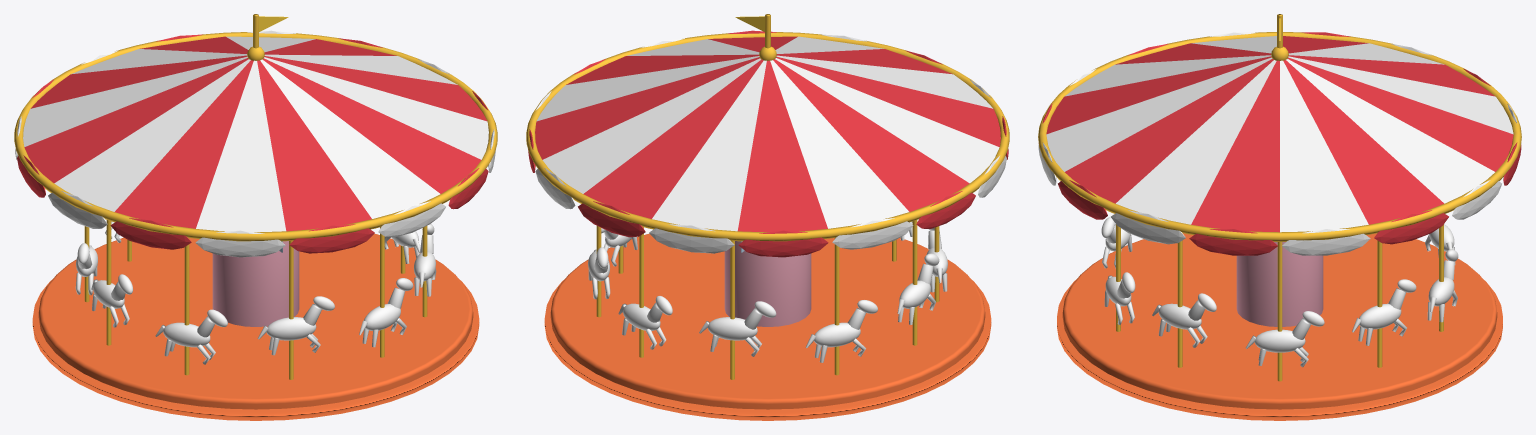
File: RockinRacewayCarousel.obj
3 views of the same model, side by side, from view 1: azimuth 30°, elevation 25°; view 2: azimuth 150°, elevation 25°; view 3: azimuth 270°, elevation 25° (orthographic).
Visible parts, largest first — view 1: Deck, CanopyA, CanopyB, Poles, Horses, Center; view 2: Deck, CanopyB, CanopyA, Poles, Horses, Center; view 3: Deck, CanopyA, CanopyB, Poles, Horses, Center.
Part boxes in pixels (x1,y1,x2,y2): Deck: (32, 233, 479, 420); CanopyA: (17, 34, 488, 253); CanopyB: (15, 30, 495, 257); Poles: (14, 14, 497, 379); Horses: (75, 221, 436, 364); Center: (212, 241, 299, 326); Deck: (544, 233, 991, 420); CanopyB: (535, 34, 1006, 253); CanopyA: (528, 30, 1008, 257); Poles: (526, 14, 1009, 379); Horses: (588, 221, 947, 362); Center: (724, 241, 811, 326); Deck: (1057, 233, 1502, 420); CanopyA: (1038, 32, 1521, 255); CanopyB: (1038, 32, 1521, 255); Poles: (1038, 14, 1521, 381); Horses: (1101, 217, 1458, 367); Center: (1236, 242, 1323, 326).
Size of the model in its own units: 24.5 by 17.4 by 24.5.
